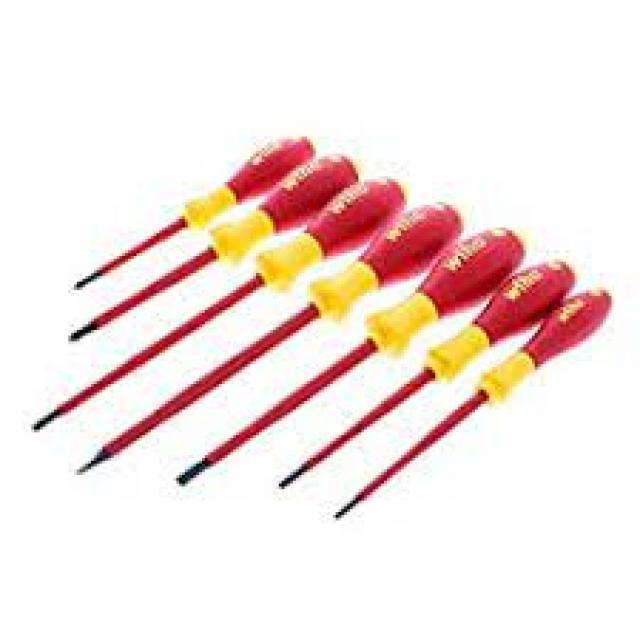screwdriver: (70, 201, 480, 482), (28, 173, 410, 450), (170, 220, 534, 488), (270, 250, 583, 498), (327, 284, 615, 524), (56, 148, 372, 350), (68, 126, 324, 294)
